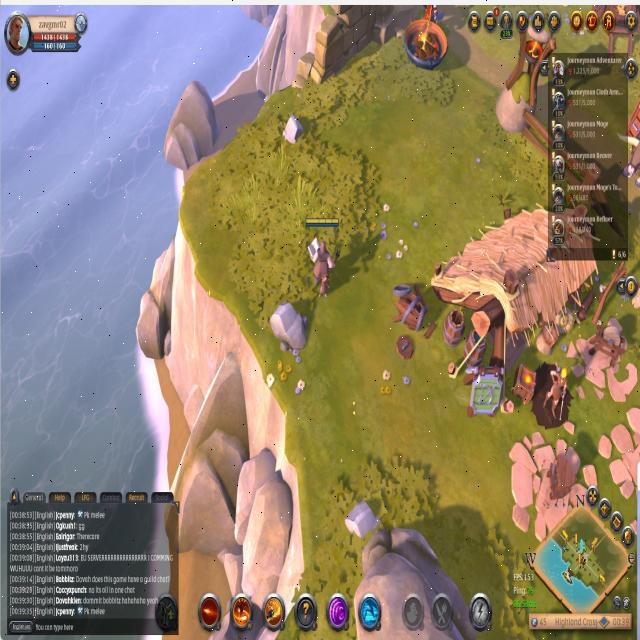stone: (268, 300, 310, 360), (343, 497, 382, 545), (280, 112, 306, 153)
